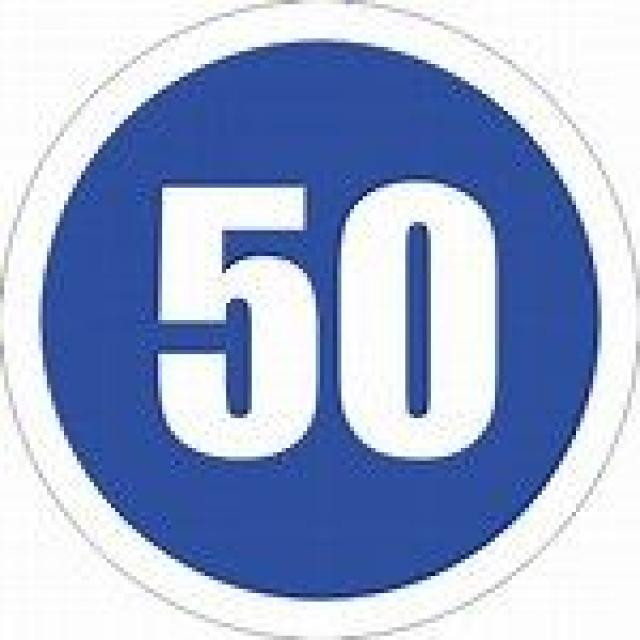COMPULSARY_MINIMUM_SPEED: (0, 0, 640, 640), (3, 0, 640, 640)
